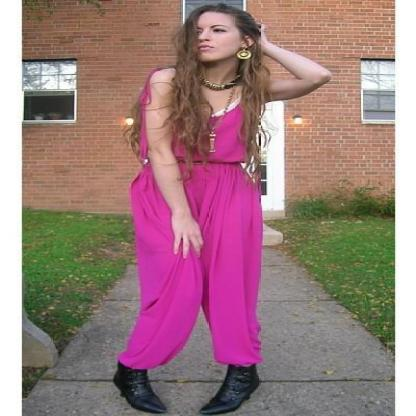pants: (119, 164, 264, 368)
shirt: (192, 108, 246, 167)
shoe: (112, 362, 261, 416)
